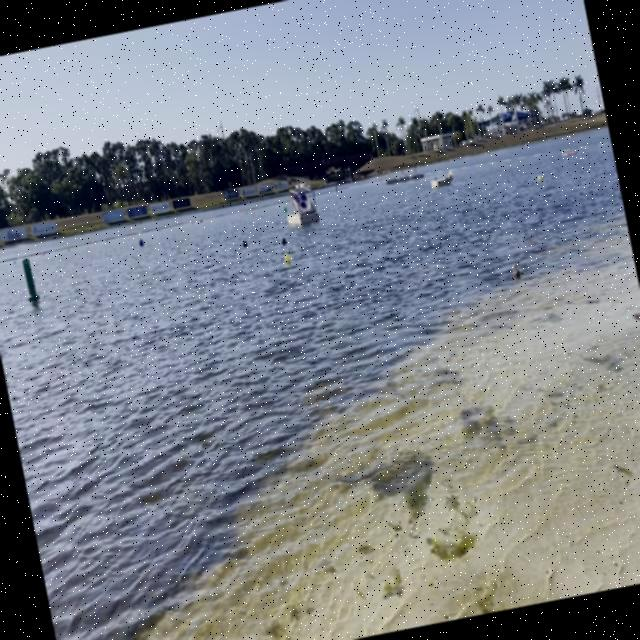buoy: (284, 252, 291, 262), (138, 237, 144, 247), (241, 238, 247, 248), (280, 235, 286, 244), (282, 204, 288, 212), (538, 174, 544, 182)
